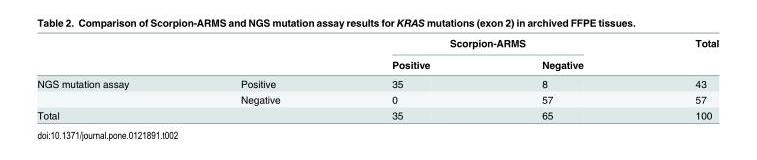table: (36, 36, 718, 120)
table column: (485, 36, 638, 120), (184, 36, 335, 120), (335, 36, 485, 120), (36, 36, 184, 120), (638, 36, 718, 120)
table column header: (36, 36, 718, 73)
table row: (36, 53, 718, 73), (36, 73, 718, 91), (36, 36, 718, 53), (36, 91, 718, 107), (36, 107, 718, 120)
table spanning cell: (335, 36, 638, 53), (36, 73, 184, 107), (638, 36, 718, 73)
